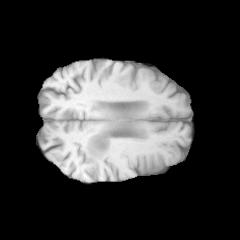glioma: (86, 135, 111, 158)
